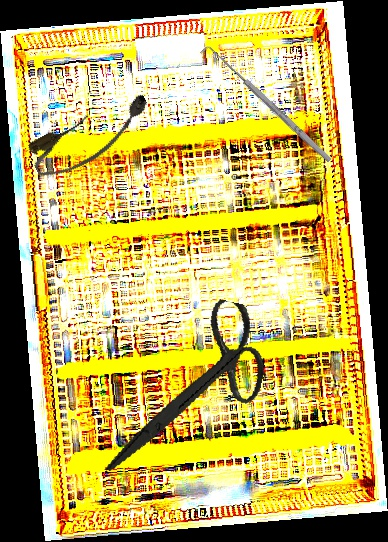Cannula: (24, 87, 159, 185)
Hook Surgical: (199, 41, 334, 169)
Iris Scissors: (104, 282, 278, 500)
